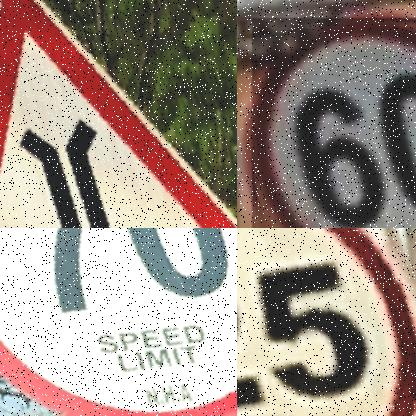Speed Limit -25 kmph-: (237, 228, 416, 416)
Speed Limit -60 kmph-: (239, 15, 416, 228), (253, 19, 416, 228)
